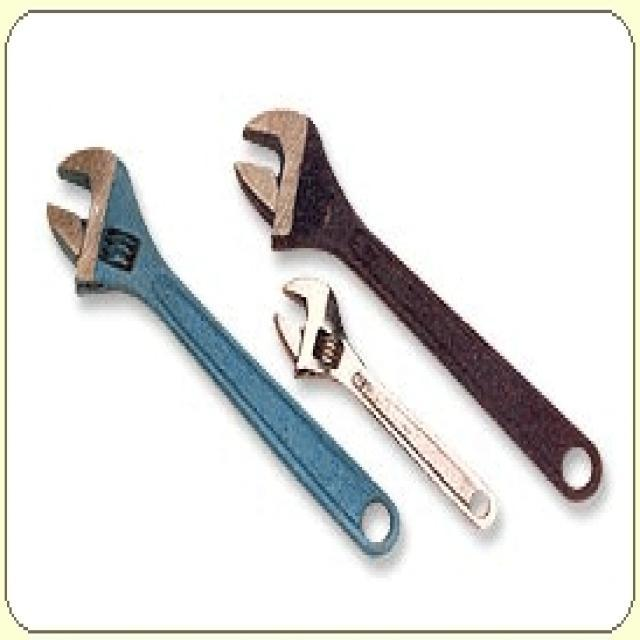wrench: (228, 100, 610, 518), (41, 137, 406, 565), (271, 272, 504, 536)
